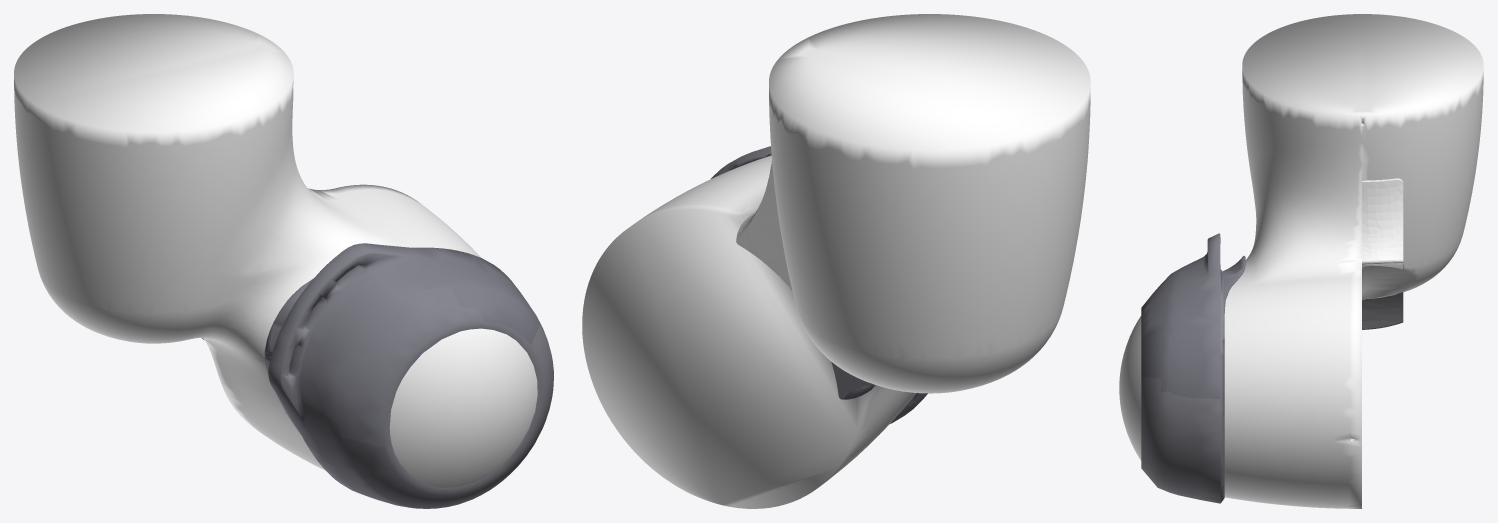
3 views of the same model, side by side, from view 1: azimuth 30°, elevation 25°; view 2: azimuth 150°, elevation 25°; view 3: azimuth 270°, elevation 25° (orthographic). The views are drawn at different scales.
Visible parts, largest first — view 1: node2_Part__Feature003.000; view 2: node2_Part__Feature003.000; view 3: node2_Part__Feature003.000.
Part boxes in pixels (<box>): node2_Part__Feature003.000: <box>14,14,553,508</box>; node2_Part__Feature003.000: <box>582,14,1090,508</box>; node2_Part__Feature003.000: <box>1119,14,1483,508</box>.
Bounding box in the file's own units: 0.1925 × 0.179 × 0.1661.
Materials: 4 (3 with a texture image).
